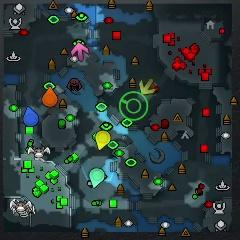p1: (24, 107, 39, 127)
p2: (90, 168, 105, 188)
p4: (96, 131, 110, 151)
p5: (42, 87, 58, 107)
x1: (72, 43, 89, 61)
x2: (138, 79, 156, 94)
